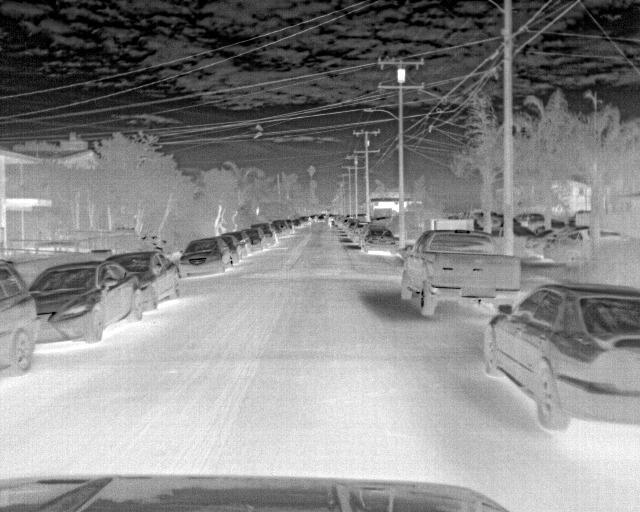car: (482, 284, 639, 435), (398, 228, 523, 319), (29, 258, 141, 348), (0, 258, 39, 389), (106, 250, 180, 311), (177, 237, 230, 281), (540, 226, 588, 268), (525, 227, 562, 258), (360, 229, 400, 255), (224, 228, 250, 258), (351, 224, 374, 246), (272, 218, 294, 240), (248, 228, 265, 251)
